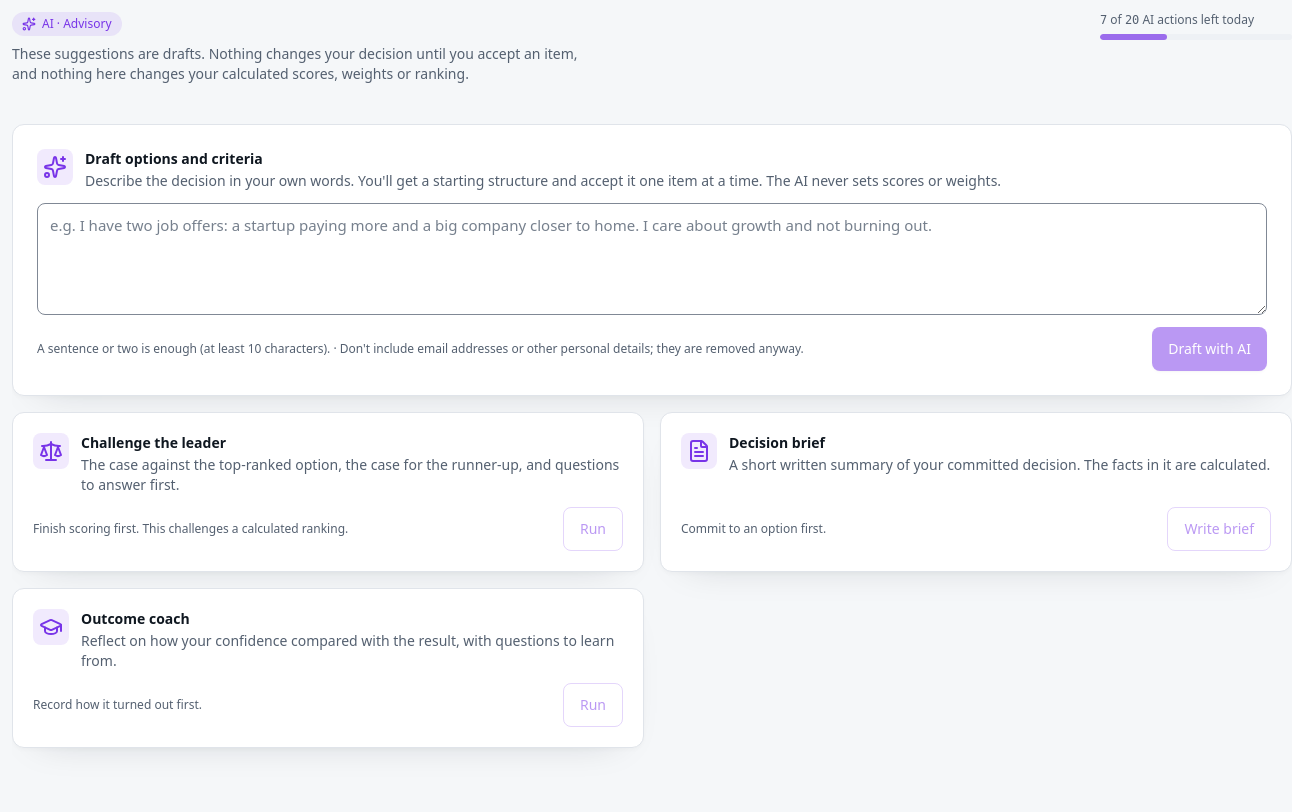
Test: running an action › says an unusable answer was discarded and cost nothing
The width and height of the screenshot is (1292, 812).
Type "Two job offers to compare" into the text box named "Describe your decision" at {"x": 652, "y": 259}, box x1=37 y1=203 x2=1267 y2=315
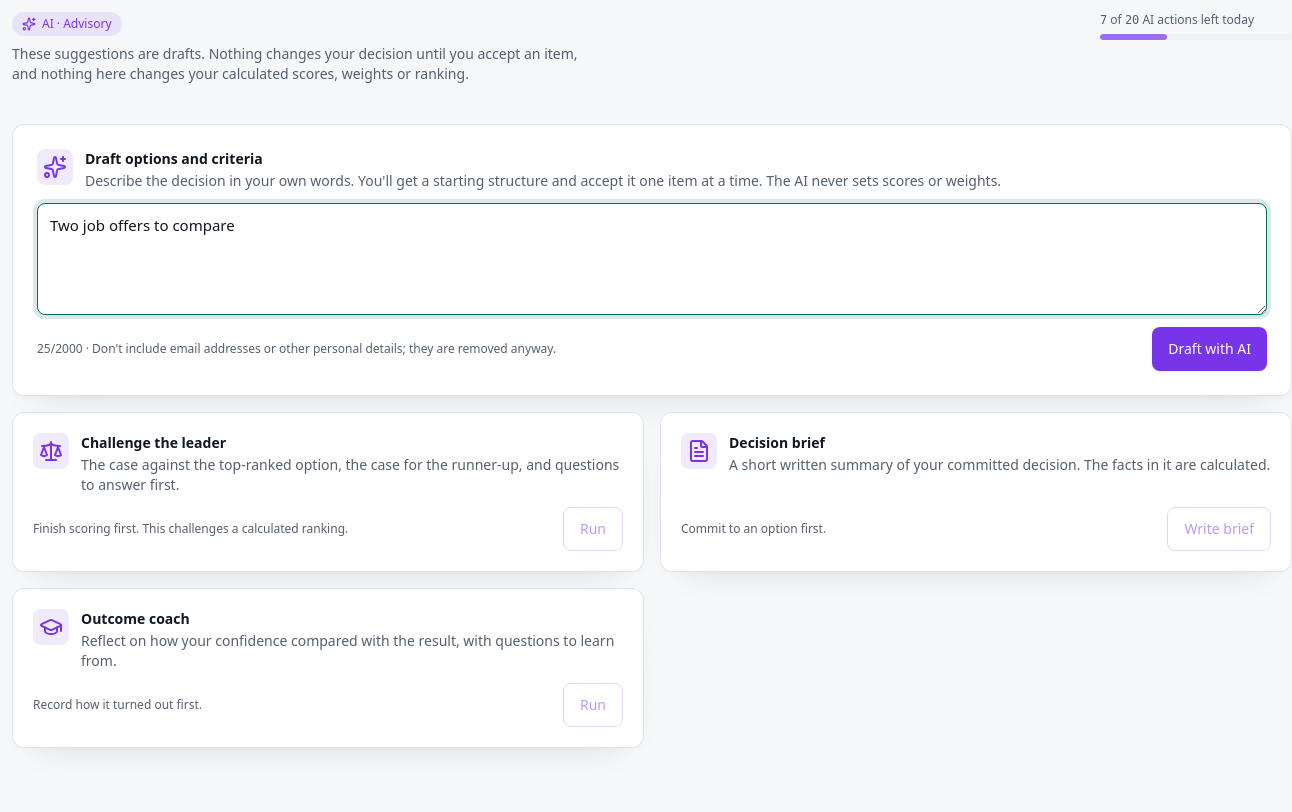
Click the button "Draft with AI" at {"x": 1210, "y": 349}, box x1=1152 y1=327 x2=1267 y2=371
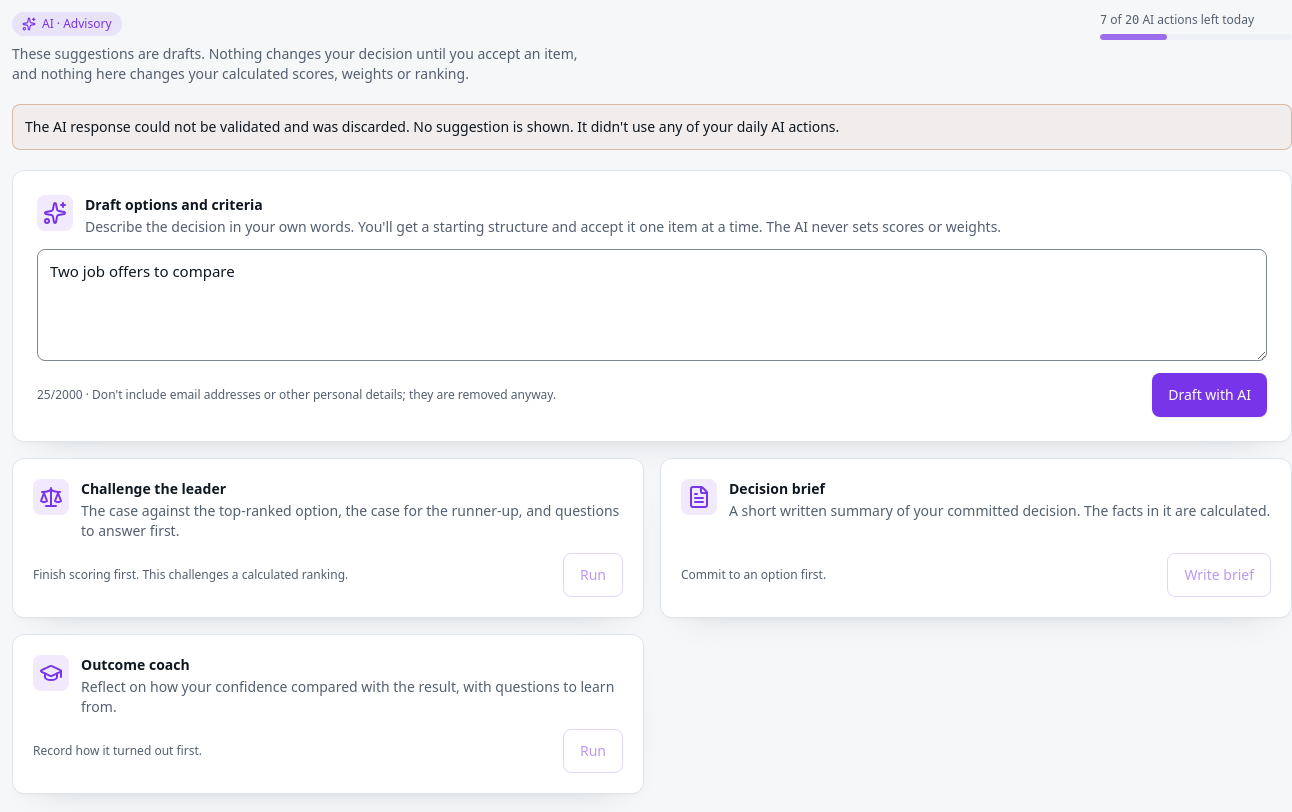
Check: the message shows "was discarded", box x1=25 y1=117 x2=839 y2=136
Check: the message shows "didn't use any of your daily AI actions", box x1=25 y1=117 x2=839 y2=136
